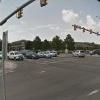Traffic light: (67, 16, 100, 47)
